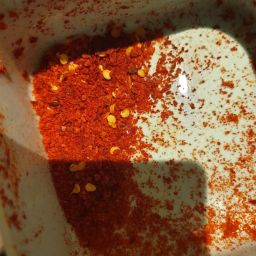Red pepper flakes: (112, 10, 242, 170), (82, 47, 206, 198), (22, 36, 161, 144), (73, 187, 255, 256), (39, 103, 124, 239)
